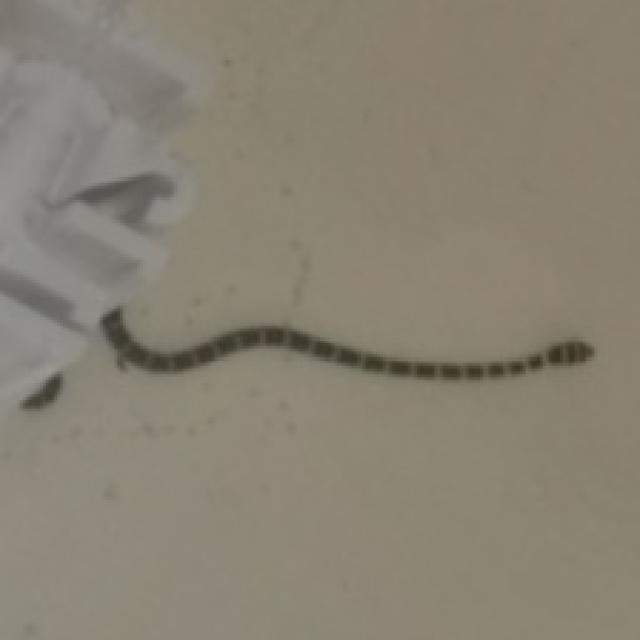paradise tree snake: (103, 309, 591, 377)
